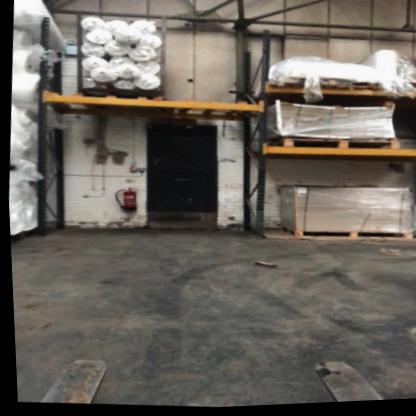vertical_damage: (248, 202, 272, 223)
